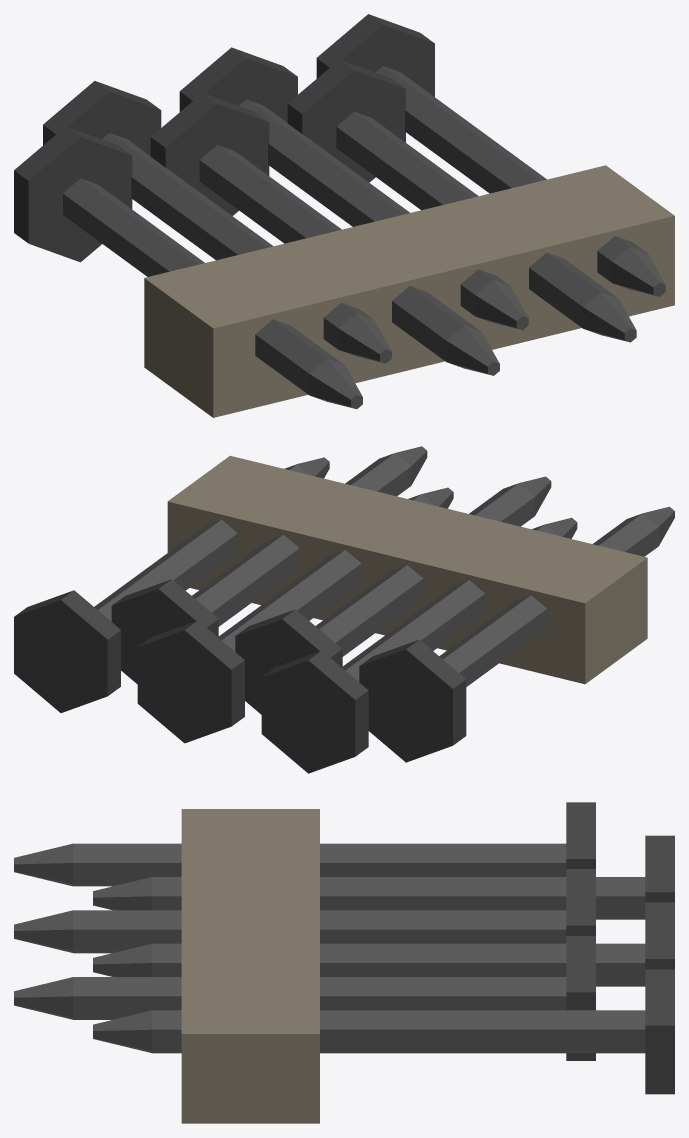
Rendered from ce_ammo2_nail_std_b.obj.
The picture shows the model from 3 angles, top to bottom: view 1: azimuth 30°, elevation 25°; view 2: azimuth 150°, elevation 25°; view 3: azimuth 270°, elevation 25°; orthographic projection. The views are drawn at different scales.
Visible parts, largest first — view 1: ce_ammo2_nail_std_b_18, ce_ammo2_nail_std_b_2, ce_ammo2_nail_std_b_7, ce_ammo2_nail_std_b_13, ce_ammo2_nail_std_b_1, ce_ammo2_nail_std_b_4, ce_ammo2_nail_std_b_10, ce_ammo2_nail_std_b_16, ce_ammo2_nail_std_b_8, ce_ammo2_nail_std_b_14, ce_ammo2_nail_std_b_17, ce_ammo2_nail_std_b_11 (+7 smaller); view 2: ce_ammo2_nail_std_b_18, ce_ammo2_nail_std_b_11, ce_ammo2_nail_std_b_5, ce_ammo2_nail_std_b_17, ce_ammo2_nail_std_b_2, ce_ammo2_nail_std_b_13, ce_ammo2_nail_std_b_1, ce_ammo2_nail_std_b_7, ce_ammo2_nail_std_b_14, ce_ammo2_nail_std_b_8, ce_ammo2_nail_std_b_4, ce_ammo2_nail_std_b_10 (+4 smaller); view 3: ce_ammo2_nail_std_b_18, ce_ammo2_nail_std_b_16, ce_ammo2_nail_std_b_1, ce_ammo2_nail_std_b_7, ce_ammo2_nail_std_b_13, ce_ammo2_nail_std_b_10, ce_ammo2_nail_std_b_4, ce_ammo2_nail_std_b_17, ce_ammo2_nail_std_b_14, ce_ammo2_nail_std_b_5, ce_ammo2_nail_std_b_11, ce_ammo2_nail_std_b_2 (+7 smaller).
Part boxes in pixels (x1,y1,x2,y2): ce_ammo2_nail_std_b_18: [144, 165, 674, 417]; ce_ammo2_nail_std_b_2: [14, 126, 132, 262]; ce_ammo2_nail_std_b_7: [199, 145, 481, 361]; ce_ammo2_nail_std_b_13: [336, 111, 617, 328]; ce_ammo2_nail_std_b_1: [63, 178, 344, 395]; ce_ammo2_nail_std_b_4: [102, 133, 373, 349]; ce_ammo2_nail_std_b_10: [239, 99, 510, 315]; ce_ammo2_nail_std_b_16: [375, 66, 646, 282]; ce_ammo2_nail_std_b_8: [150, 93, 269, 215]; ce_ammo2_nail_std_b_14: [287, 59, 405, 182]; ce_ammo2_nail_std_b_17: [316, 14, 434, 96]; ce_ammo2_nail_std_b_11: [179, 47, 297, 122]; ce_ammo2_nail_std_b_18: [167, 455, 647, 684]; ce_ammo2_nail_std_b_11: [137, 620, 244, 743]; ce_ammo2_nail_std_b_5: [261, 650, 368, 773]; ce_ammo2_nail_std_b_17: [14, 590, 120, 712]; ce_ammo2_nail_std_b_2: [359, 639, 466, 762]; ce_ammo2_nail_std_b_13: [192, 453, 411, 626]; ce_ammo2_nail_std_b_1: [439, 513, 658, 686]; ce_ammo2_nail_std_b_7: [316, 483, 534, 656]; ce_ammo2_nail_std_b_14: [111, 579, 218, 684]; ce_ammo2_nail_std_b_8: [235, 609, 342, 714]; ce_ammo2_nail_std_b_4: [342, 524, 558, 681]; ce_ammo2_nail_std_b_10: [218, 494, 434, 651]; ce_ammo2_nail_std_b_18: [181, 809, 319, 1123]; ce_ammo2_nail_std_b_16: [152, 1010, 645, 1053]; ce_ammo2_nail_std_b_1: [73, 843, 566, 886]; ce_ammo2_nail_std_b_7: [73, 910, 566, 953]; ce_ammo2_nail_std_b_13: [73, 977, 566, 1019]; ce_ammo2_nail_std_b_10: [152, 943, 645, 986]; ce_ammo2_nail_std_b_4: [152, 877, 645, 919]; ce_ammo2_nail_std_b_17: [645, 969, 674, 1094]; ce_ammo2_nail_std_b_14: [566, 936, 595, 1060]; ce_ammo2_nail_std_b_5: [645, 835, 674, 902]; ce_ammo2_nail_std_b_11: [645, 902, 674, 969]; ce_ammo2_nail_std_b_2: [566, 802, 595, 868].
Bounding box in the file's own units: 0.27 × 0.07 × 0.335.
